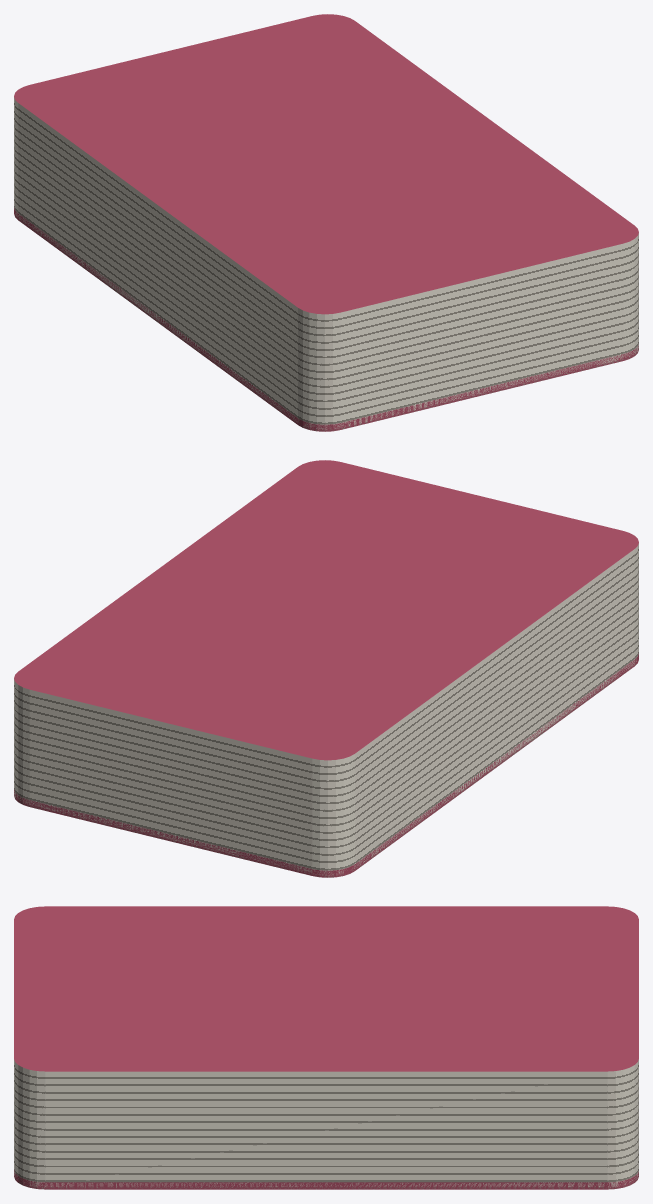
The model's file is carte.glb.
The picture shows the model from 3 angles, top to bottom: view 1: azimuth 30°, elevation 25°; view 2: azimuth 150°, elevation 25°; view 3: azimuth 270°, elevation 25°; orthographic projection.
Visible parts, largest first — view 1: mazzo, carta; view 2: mazzo, carta; view 3: mazzo, carta.
Boxes of the visible parts, <box> form: mazzo: <box>14,14,638,431</box>; carta: <box>14,208,638,431</box>; mazzo: <box>14,460,638,877</box>; carta: <box>14,653,638,877</box>; mazzo: <box>14,906,638,1189</box>; carta: <box>14,1170,638,1189</box>.
Size of the model in its own units: 0.075 by 0.025 by 0.12.
Materials: 3 (1 with a texture image).
